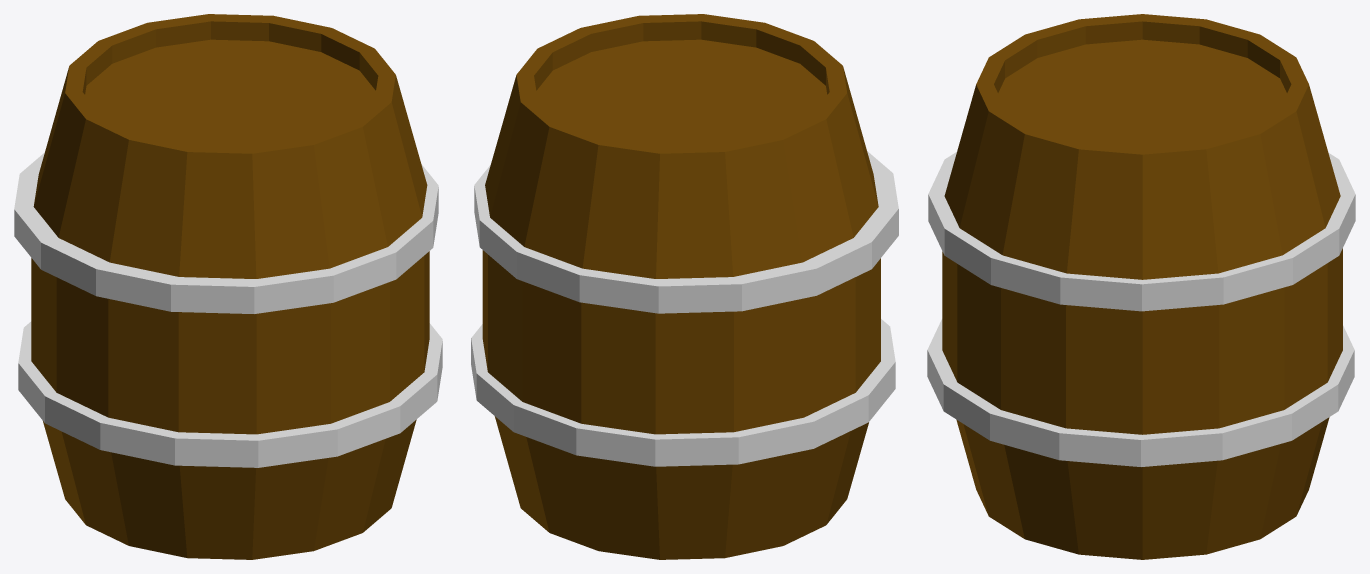
Rendered from barrel3.fbx.
3 views of the same model, side by side, from view 1: azimuth 30°, elevation 25°; view 2: azimuth 150°, elevation 25°; view 3: azimuth 270°, elevation 25° (orthographic).
Parts seen in each view (by area): view 1: barrel; view 2: barrel; view 3: barrel.
Part boxes in pixels (x1,y1,x2,y2): barrel: (14,14,442,559); barrel: (471,14,898,559); barrel: (927,14,1355,559).
Bounding box in the file's own units: 259 × 269 × 257.
